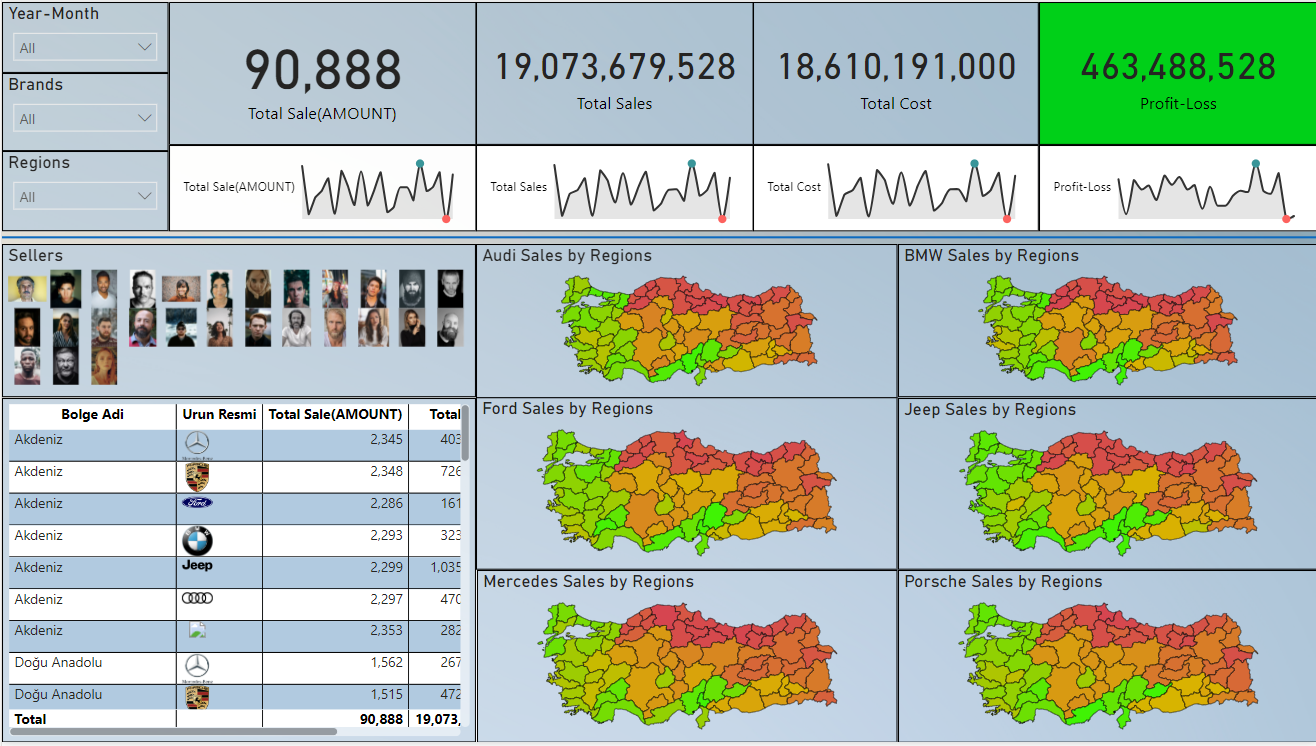

This screenshot's page, from the dashboard's own definition file:
{"tool":"powerbi","page":{"name":" Sales by Brands","canvas":[1280,720],"ordinal":1},"visuals":[{"type":"slicer","title":"Year-Month","fields":{"Values":["Satis Verileri.Yil-Ay"]},"box":[0,0,162.4,69.4],"z":0},{"type":"slicer","title":"Brands","fields":{"Values":["Urunler.Urun Adi"]},"box":[0,69.4,162.4,75.5],"z":1000},{"type":"card","fields":{"Values":["Measurements.Total Sale(AMOUNT)"]},"box":[162.4,0,298.5,138.7],"z":2000},{"type":"card","fields":{"Values":["Measurements.Total Sales"]},"box":[461,0,269.6,138.7],"z":3000},{"type":"card","fields":{"Values":["Measurements.Total Cost"]},"box":[730.5,0,278.3,138.7],"z":4000},{"type":"card","fields":{"Values":["Measurements.Profit-Loss"]},"box":[1008.9,0,271.3,138.7],"z":5000},{"type":"PBI_CV_25997FEB_F466_44FA_B562_AC4063283C4C","fields":{"axis":["Satis Verileri.Yil-Ay"],"measure":["Measurements.Total Sale(AMOUNT)"]},"box":[162.4,138.7,298.5,84.3],"z":6000},{"type":"PBI_CV_25997FEB_F466_44FA_B562_AC4063283C4C","fields":{"axis":["Satis Verileri.Yil-Ay"],"measure":["Measurements.Total Sales"]},"box":[461,138.7,269.6,84.3],"z":7000},{"type":"PBI_CV_25997FEB_F466_44FA_B562_AC4063283C4C","fields":{"axis":["Satis Verileri.Yil-Ay"],"measure":["Measurements.Total Cost"]},"box":[730.5,138.7,278.3,84.3],"z":8000},{"type":"PBI_CV_25997FEB_F466_44FA_B562_AC4063283C4C","fields":{"axis":["Satis Verileri.Yil-Ay"],"measure":["Measurements.Profit-Loss"]},"box":[1008.9,138.7,271.3,84.3],"z":9000},{"type":"shape","box":[0,223,1280.2,12.3],"z":10000},{"type":"tableEx","fields":{"Values":["Bolgeler.Bolge Adi","Urunler.Urun Resmi","Measurements.Total Sale(AMOUNT)","Measurements.Total Sales","Measurements.Total Cost"]},"box":[0,385.5,461,334.5],"z":11000},{"type":"slicer","title":"Regions","fields":{"Values":["Bolgeler.Bolge Adi"]},"box":[0,144.9,162.4,78.1],"z":12000},{"type":"ImageGrid_FC5183B9_926C_45E0_B5F7_0CE9EAF1DA9B","title":"Sellers","fields":{"ImageURLHQ":["Saticilar.Fotograf Linki"]},"box":[0,235.3,461,149.3],"z":13000},{"type":"shapeMap","title":"Jeep Sales by Regions","fields":{"Category":["Satis Verileri.Satis Merkezi"],"Value":["Measurements.Total Sales"]},"box":[871,385.5,409.2,166.8],"z":14000},{"type":"shapeMap","title":"Porsche Sales by Regions","fields":{"Category":["Satis Verileri.Satis Merkezi"],"Value":["Measurements.Total Sales"]},"box":[871,552.3,409.2,167.7],"z":15000},{"type":"shapeMap","title":"Ford Sales by Regions","fields":{"Category":["Satis Verileri.Satis Merkezi"],"Value":["Measurements.Total Sales"]},"box":[461,384.6,410,167.7],"z":16000},{"type":"shapeMap","title":"Mercedes Sales by Regions","fields":{"Category":["Satis Verileri.Satis Merkezi"],"Value":["Measurements.Total Sales"]},"box":[461.9,552.3,409.2,167.7],"z":17000},{"type":"shapeMap","title":"BMW Sales by Regions","fields":{"Category":["Satis Verileri.Satis Merkezi"],"Value":["Measurements.Total Sales"]},"box":[871,235.3,408.3,149.3],"z":18000},{"type":"shapeMap","title":"Audi Sales by Regions","fields":{"Category":["Satis Verileri.Satis Merkezi"],"Value":["Measurements.Total Sales"]},"box":[461,235.3,410,150.1],"z":19000}]}

Visuals, with their boxes in screenshot pixels (x1, y1, x2, y2), scaled from the page's 1280x720 canvas onto the 1316x746 screenshot:
"Year-Month" slicer: {"left": 0, "top": 0, "right": 167, "bottom": 72}
"Brands" slicer: {"left": 0, "top": 72, "right": 167, "bottom": 150}
card - Measurements.Total Sale(AMOUNT): {"left": 167, "top": 0, "right": 474, "bottom": 144}
card - Measurements.Total Sales: {"left": 474, "top": 0, "right": 751, "bottom": 144}
card - Measurements.Total Cost: {"left": 751, "top": 0, "right": 1037, "bottom": 144}
card - Measurements.Profit-Loss: {"left": 1037, "top": 0, "right": 1315, "bottom": 144}
PBI_CV_25997FEB_F466_44FA_B562_AC4063283C4C - Satis Verileri.Yil-Ay x Measurements.Total Sale(AMOUNT): {"left": 167, "top": 144, "right": 474, "bottom": 231}
PBI_CV_25997FEB_F466_44FA_B562_AC4063283C4C - Satis Verileri.Yil-Ay x Measurements.Total Sales: {"left": 474, "top": 144, "right": 751, "bottom": 231}
PBI_CV_25997FEB_F466_44FA_B562_AC4063283C4C - Satis Verileri.Yil-Ay x Measurements.Total Cost: {"left": 751, "top": 144, "right": 1037, "bottom": 231}
PBI_CV_25997FEB_F466_44FA_B562_AC4063283C4C - Satis Verileri.Yil-Ay x Measurements.Profit-Loss: {"left": 1037, "top": 144, "right": 1315, "bottom": 231}
shape: {"left": 0, "top": 231, "right": 1315, "bottom": 244}
tableEx - Bolgeler.Bolge Adi x Urunler.Urun Resmi: {"left": 0, "top": 399, "right": 474, "bottom": 745}
"Regions" slicer: {"left": 0, "top": 150, "right": 167, "bottom": 231}
"Sellers" ImageGrid_FC5183B9_926C_45E0_B5F7_0CE9EAF1DA9B: {"left": 0, "top": 244, "right": 474, "bottom": 398}
"Jeep Sales by Regions" shapeMap: {"left": 895, "top": 399, "right": 1315, "bottom": 572}
"Porsche Sales by Regions" shapeMap: {"left": 895, "top": 572, "right": 1315, "bottom": 745}
"Ford Sales by Regions" shapeMap: {"left": 474, "top": 398, "right": 895, "bottom": 572}
"Mercedes Sales by Regions" shapeMap: {"left": 475, "top": 572, "right": 896, "bottom": 745}
"BMW Sales by Regions" shapeMap: {"left": 895, "top": 244, "right": 1315, "bottom": 398}
"Audi Sales by Regions" shapeMap: {"left": 474, "top": 244, "right": 895, "bottom": 399}
